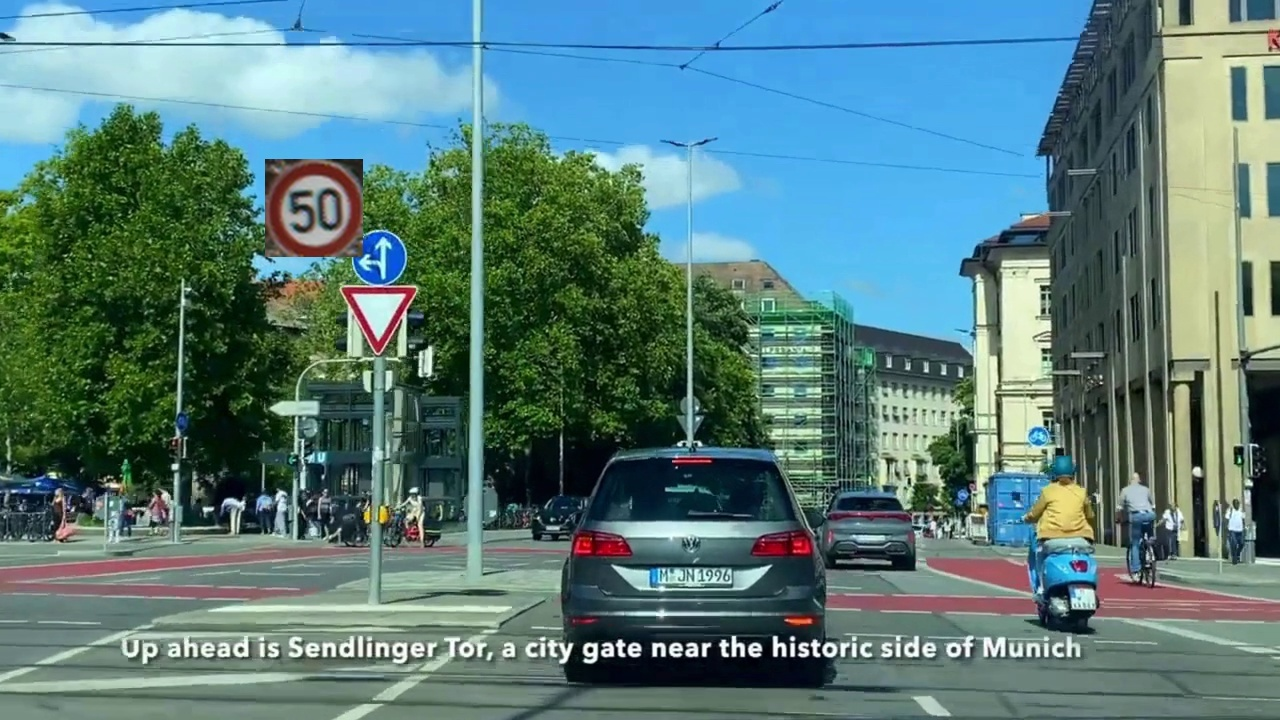Speed 50: (265, 159, 363, 257)
